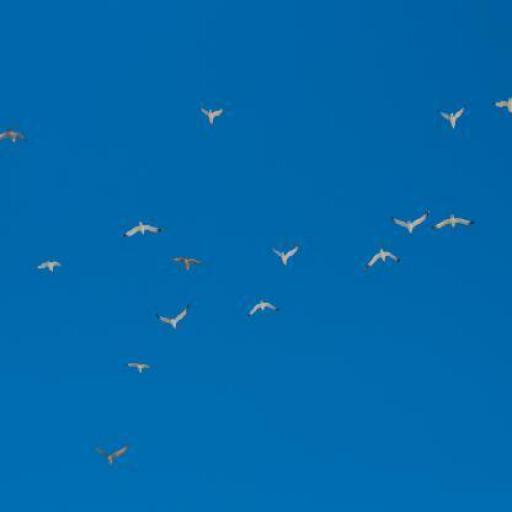bird: (155, 303, 192, 331), (120, 218, 162, 242), (96, 441, 130, 470), (390, 211, 431, 235), (437, 103, 468, 132), (270, 242, 304, 268), (366, 247, 401, 272), (432, 212, 475, 231), (246, 298, 282, 320), (196, 103, 226, 128), (171, 252, 202, 274), (0, 127, 28, 149), (32, 258, 64, 276), (492, 92, 511, 114), (126, 360, 152, 376)
